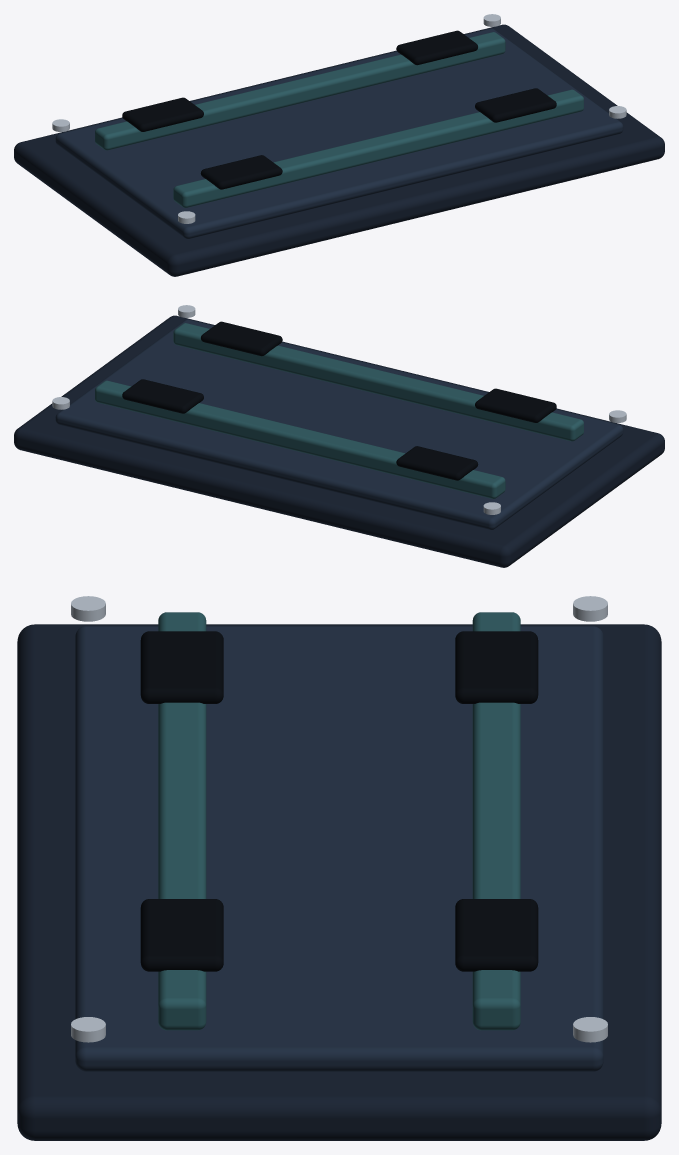
File: motor_base.glb
3 renders of one model, top to bottom at view 1: azimuth 30°, elevation 25°; view 2: azimuth 150°, elevation 25°; view 3: azimuth 270°, elevation 25°, orthographic. The views are drawn at different scales.
Visible parts, largest first — view 1: top_plate, deck, rail_2, rail_1, rubber_pad_1, rubber_pad_2, rubber_pad_4, rubber_pad_3; view 2: top_plate, deck, rail_1, rail_2, rubber_pad_3, rubber_pad_2, rubber_pad_4, rubber_pad_1; view 3: top_plate, deck, rail_1, rail_2, rubber_pad_1, rubber_pad_3, rubber_pad_2, rubber_pad_4, bolt_1, bolt_3, bolt_2, bolt_4.
Part boxes in pixels (box(x1,y1,x2,y2)): top_plate: box(55, 28, 623, 239); deck: box(14, 24, 664, 276); rail_2: box(173, 89, 583, 207); rail_1: box(95, 32, 505, 150); rubber_pad_1: box(122, 97, 203, 131); rubber_pad_2: box(396, 30, 477, 65); rubber_pad_4: box(475, 88, 556, 122); rubber_pad_3: box(200, 155, 282, 189); top_plate: box(55, 319, 623, 530); deck: box(14, 315, 664, 567); rail_1: box(95, 380, 505, 498); rail_2: box(173, 323, 583, 441); rubber_pad_3: box(475, 388, 556, 422); rubber_pad_2: box(122, 379, 203, 413); rubber_pad_4: box(201, 321, 282, 356); rubber_pad_1: box(396, 446, 478, 480); top_plate: box(75, 626, 603, 1071); deck: box(17, 624, 661, 1140); rail_1: box(472, 612, 520, 1030); rail_2: box(158, 612, 206, 1030); rubber_pad_1: box(455, 631, 538, 703); rubber_pad_3: box(140, 631, 223, 703); rubber_pad_2: box(455, 899, 538, 971); rubber_pad_4: box(140, 899, 223, 971); bolt_1: box(573, 596, 607, 621); bolt_3: box(71, 596, 105, 621); bolt_2: box(573, 1017, 607, 1042); bolt_4: box(71, 1017, 105, 1042).
Bounding box in the file's own units: 5.25 × 0.56 × 2.95.
